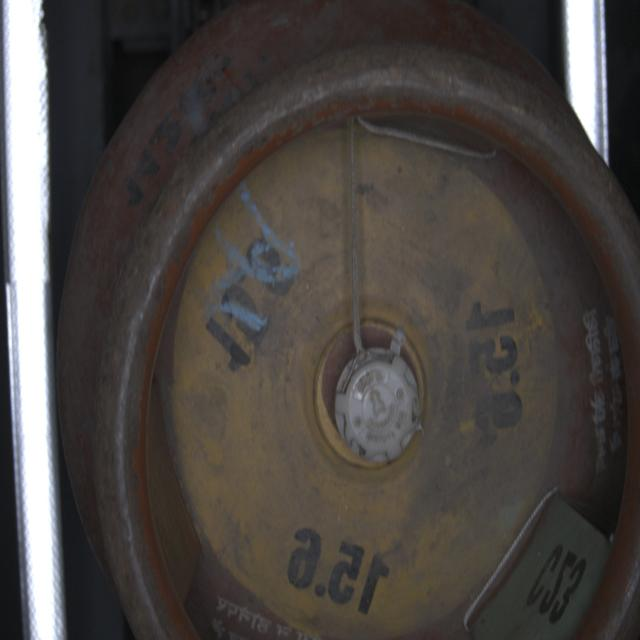Cap: (331, 345, 423, 467)
